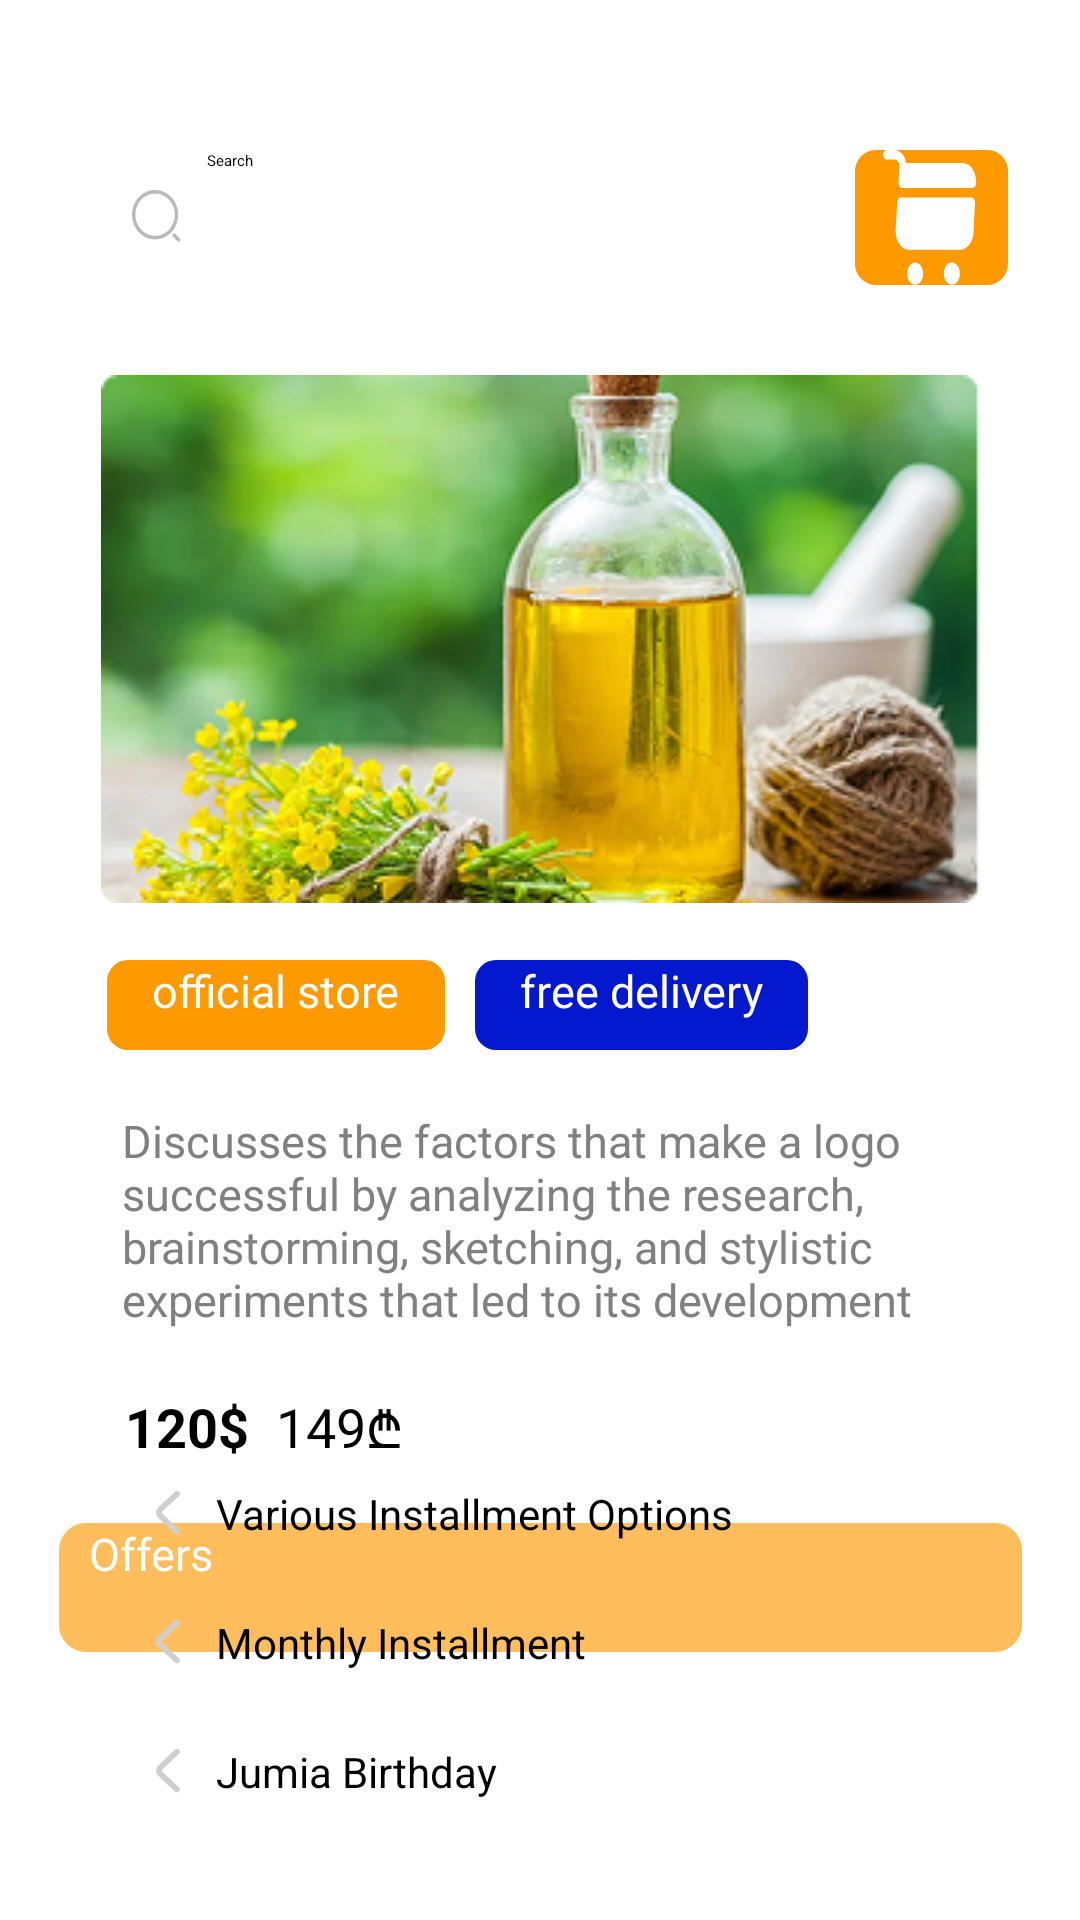

Where to tap for icons on this 1080px x 1920px app screen, as [x,y]:
arrow back: [168,1513], [168,1642], [168,1770]
